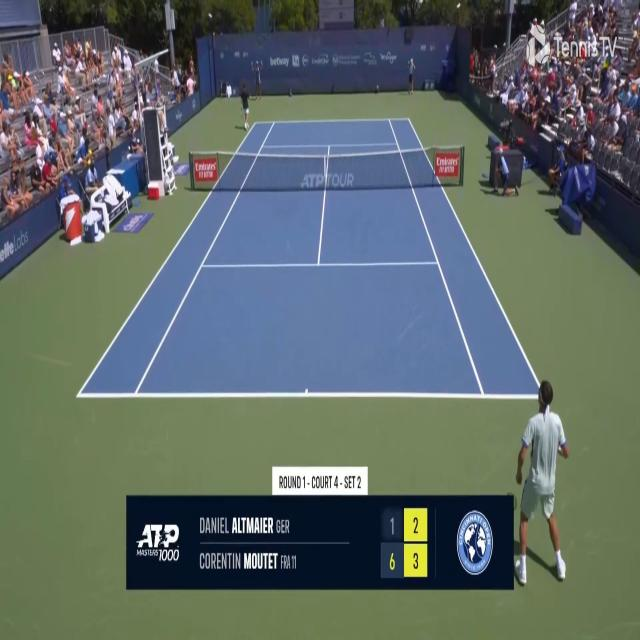tennis-player: (512, 380, 570, 588), (238, 76, 254, 133)
